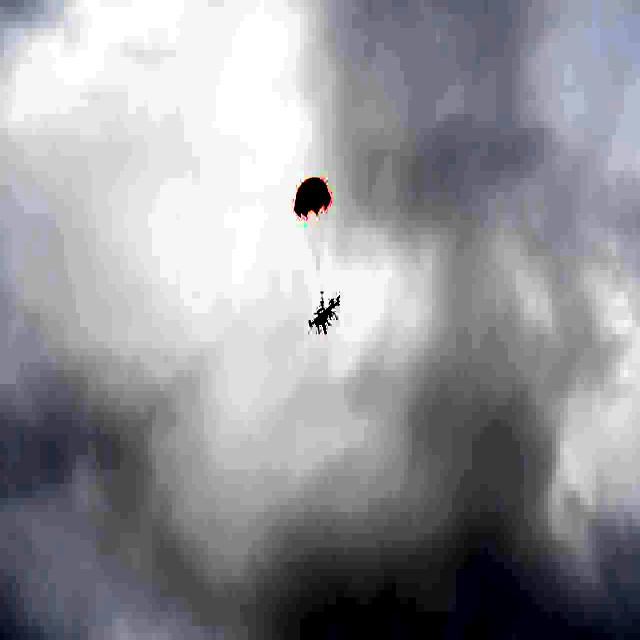drone: (306, 294, 343, 332)
